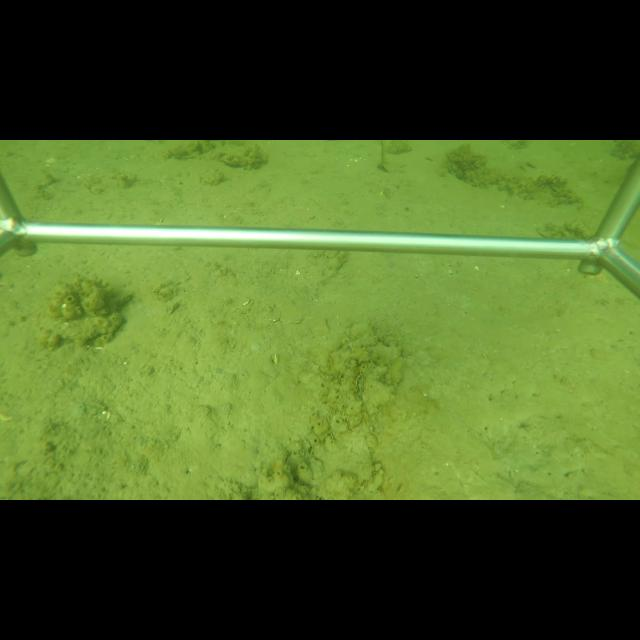Oyster-Closed: (352, 361, 372, 404)
